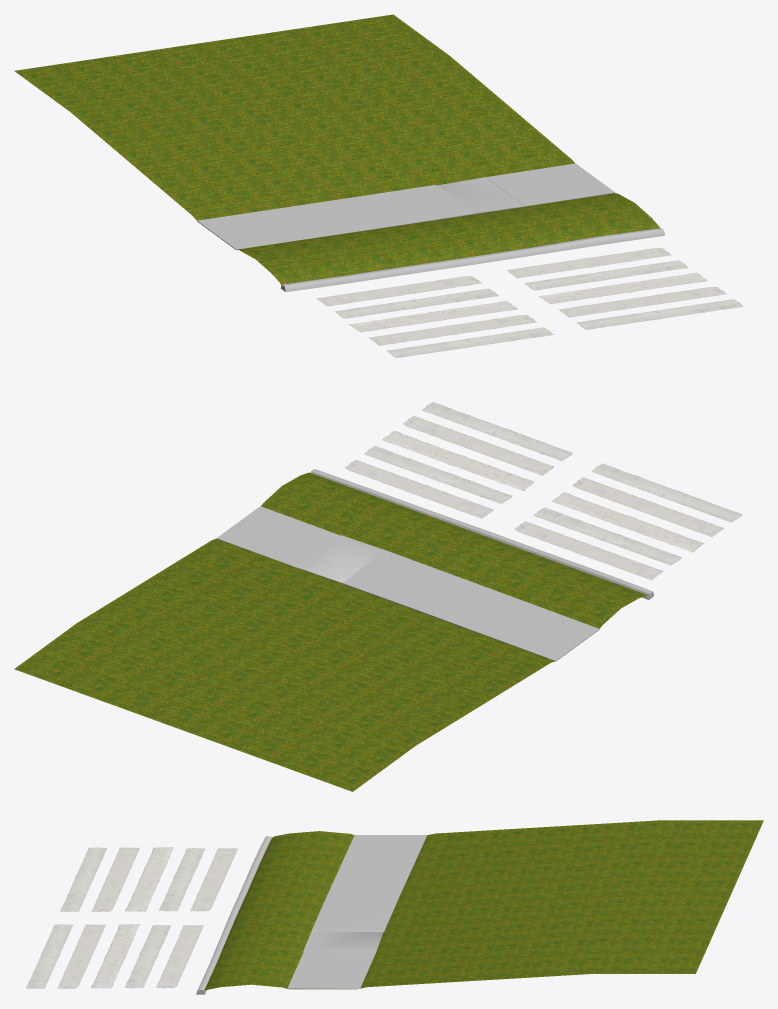
Rendered from Road_8x_15.fbx.
3 renders of one model, top to bottom at view 1: azimuth 30°, elevation 25°; view 2: azimuth 150°, elevation 25°; view 3: azimuth 270°, elevation 25°, orthographic. The views are drawn at different scales.
Visible parts, largest first — view 1: Road_8x_15; view 2: Road_8x_15; view 3: Road_8x_15.
Part boxes in pixels (<box>): Road_8x_15: <box>14,14,743,357</box>; Road_8x_15: <box>14,402,742,791</box>; Road_8x_15: <box>26,820,763,994</box>.
Size of the model in its own units: 801 by 50.07 by 1650.
